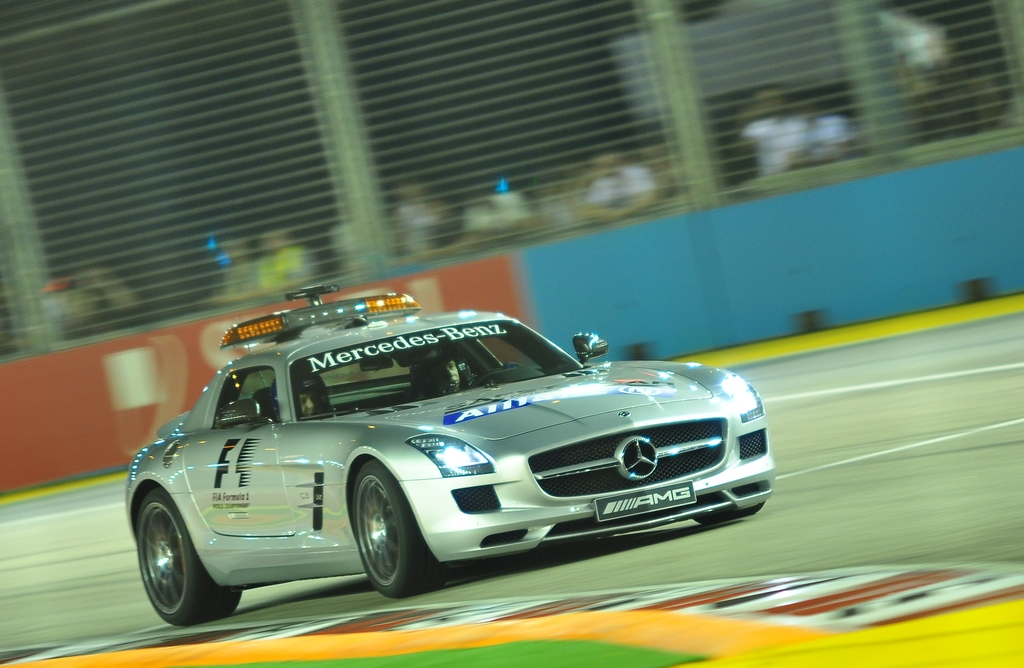person: (57, 261, 142, 332)
